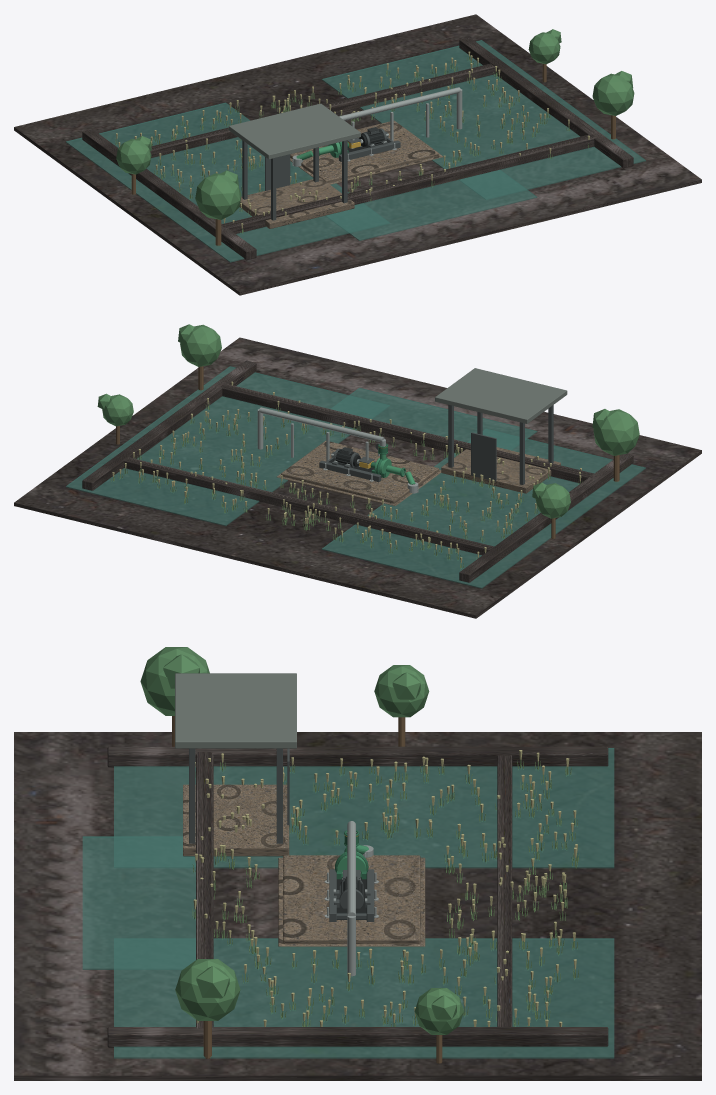
The model's file is paddy_pump_station.glb.
The picture shows the model from 3 angles, top to bottom: view 1: azimuth 30°, elevation 25°; view 2: azimuth 150°, elevation 25°; view 3: azimuth 270°, elevation 25°; orthographic projection. The views are drawn at different scales.
Visible parts, largest first — view 1: PaddyEarth, PaddyWaterB, PaddyWaterA, PaddyWaterC, RiceField, BundN, ShedRoof, BundPath, PumpPad, BundE, ShedFloor, BundW (+6 smaller); view 2: PaddyEarth, PaddyWaterB, PaddyWaterA, RiceField, PaddyWaterC, BundPath, BundN, ShedRoof, PumpPad, BundE, BundW, ShedFloor (+8 smaller); view 3: PaddyEarth, PaddyWaterB, PaddyWaterA, PaddyWaterC, RiceField, BundE, BundW, ShedRoof, PumpPad, ShedFloor, BundPath, BundN (+9 smaller).
Boxes of the visible parts, box(x1,y1,x2,y2) form: PaddyEarth: box(14, 14, 701, 295); PaddyWaterB: box(322, 40, 645, 199); PaddyWaterA: box(66, 102, 389, 262); PaddyWaterC: box(326, 170, 537, 240); RiceField: box(115, 51, 589, 233); BundN: box(221, 134, 596, 233); ShedRoof: box(228, 103, 360, 159); BundPath: box(150, 63, 495, 158); PumpPad: box(290, 120, 438, 182); BundE: box(459, 37, 633, 168); ShedFloor: box(239, 177, 354, 228); BundW: box(82, 129, 256, 260); PaddyEarth: box(14, 337, 701, 618); PaddyWaterB: box(66, 366, 389, 526); PaddyWaterA: box(322, 428, 645, 588); RiceField: box(111, 381, 582, 568); PaddyWaterC: box(331, 388, 537, 450); BundPath: box(124, 457, 494, 555); BundN: box(220, 383, 593, 483); ShedRoof: box(435, 368, 567, 423); PumpPad: box(281, 440, 438, 503); BundE: box(82, 360, 256, 490); BundW: box(459, 453, 633, 582); ShedFloor: box(441, 447, 560, 493); PaddyEarth: box(14, 732, 701, 1080); PaddyWaterB: box(114, 938, 614, 1058); PaddyWaterA: box(114, 748, 614, 868); PaddyWaterC: box(82, 836, 195, 969); RiceField: box(192, 750, 579, 1026); BundE: box(107, 1027, 608, 1047); BundW: box(107, 746, 608, 767); ShedRoof: box(175, 673, 296, 748); PumpPad: box(283, 855, 420, 943); ShedFloor: box(183, 784, 289, 856); BundPath: box(497, 755, 512, 1026); BundN: box(196, 752, 213, 1028).
Bounding box in the file's own units: 13 × 2.33 × 11.
Materials: 15 (2 with a texture image).
